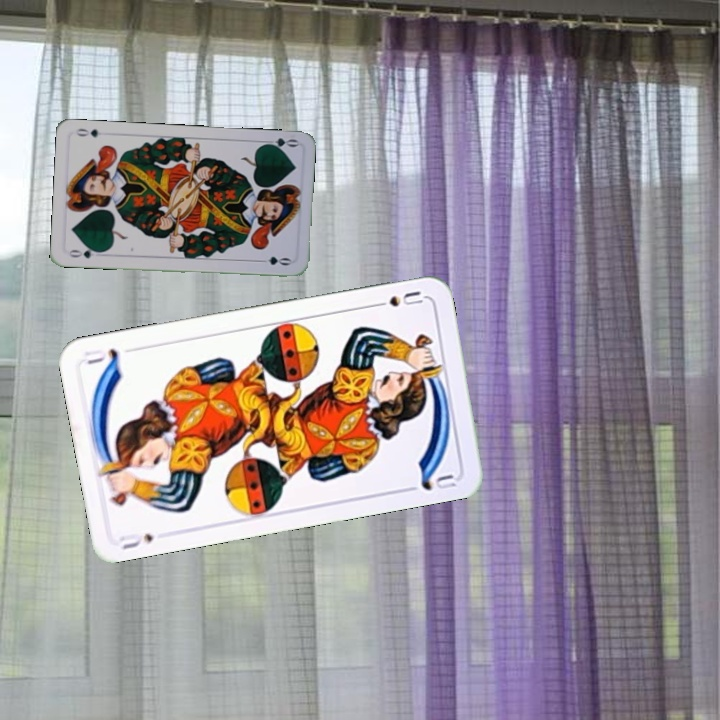GO: (259, 134, 300, 152), (65, 244, 105, 261)
SU: (368, 287, 426, 311), (116, 529, 157, 552)
